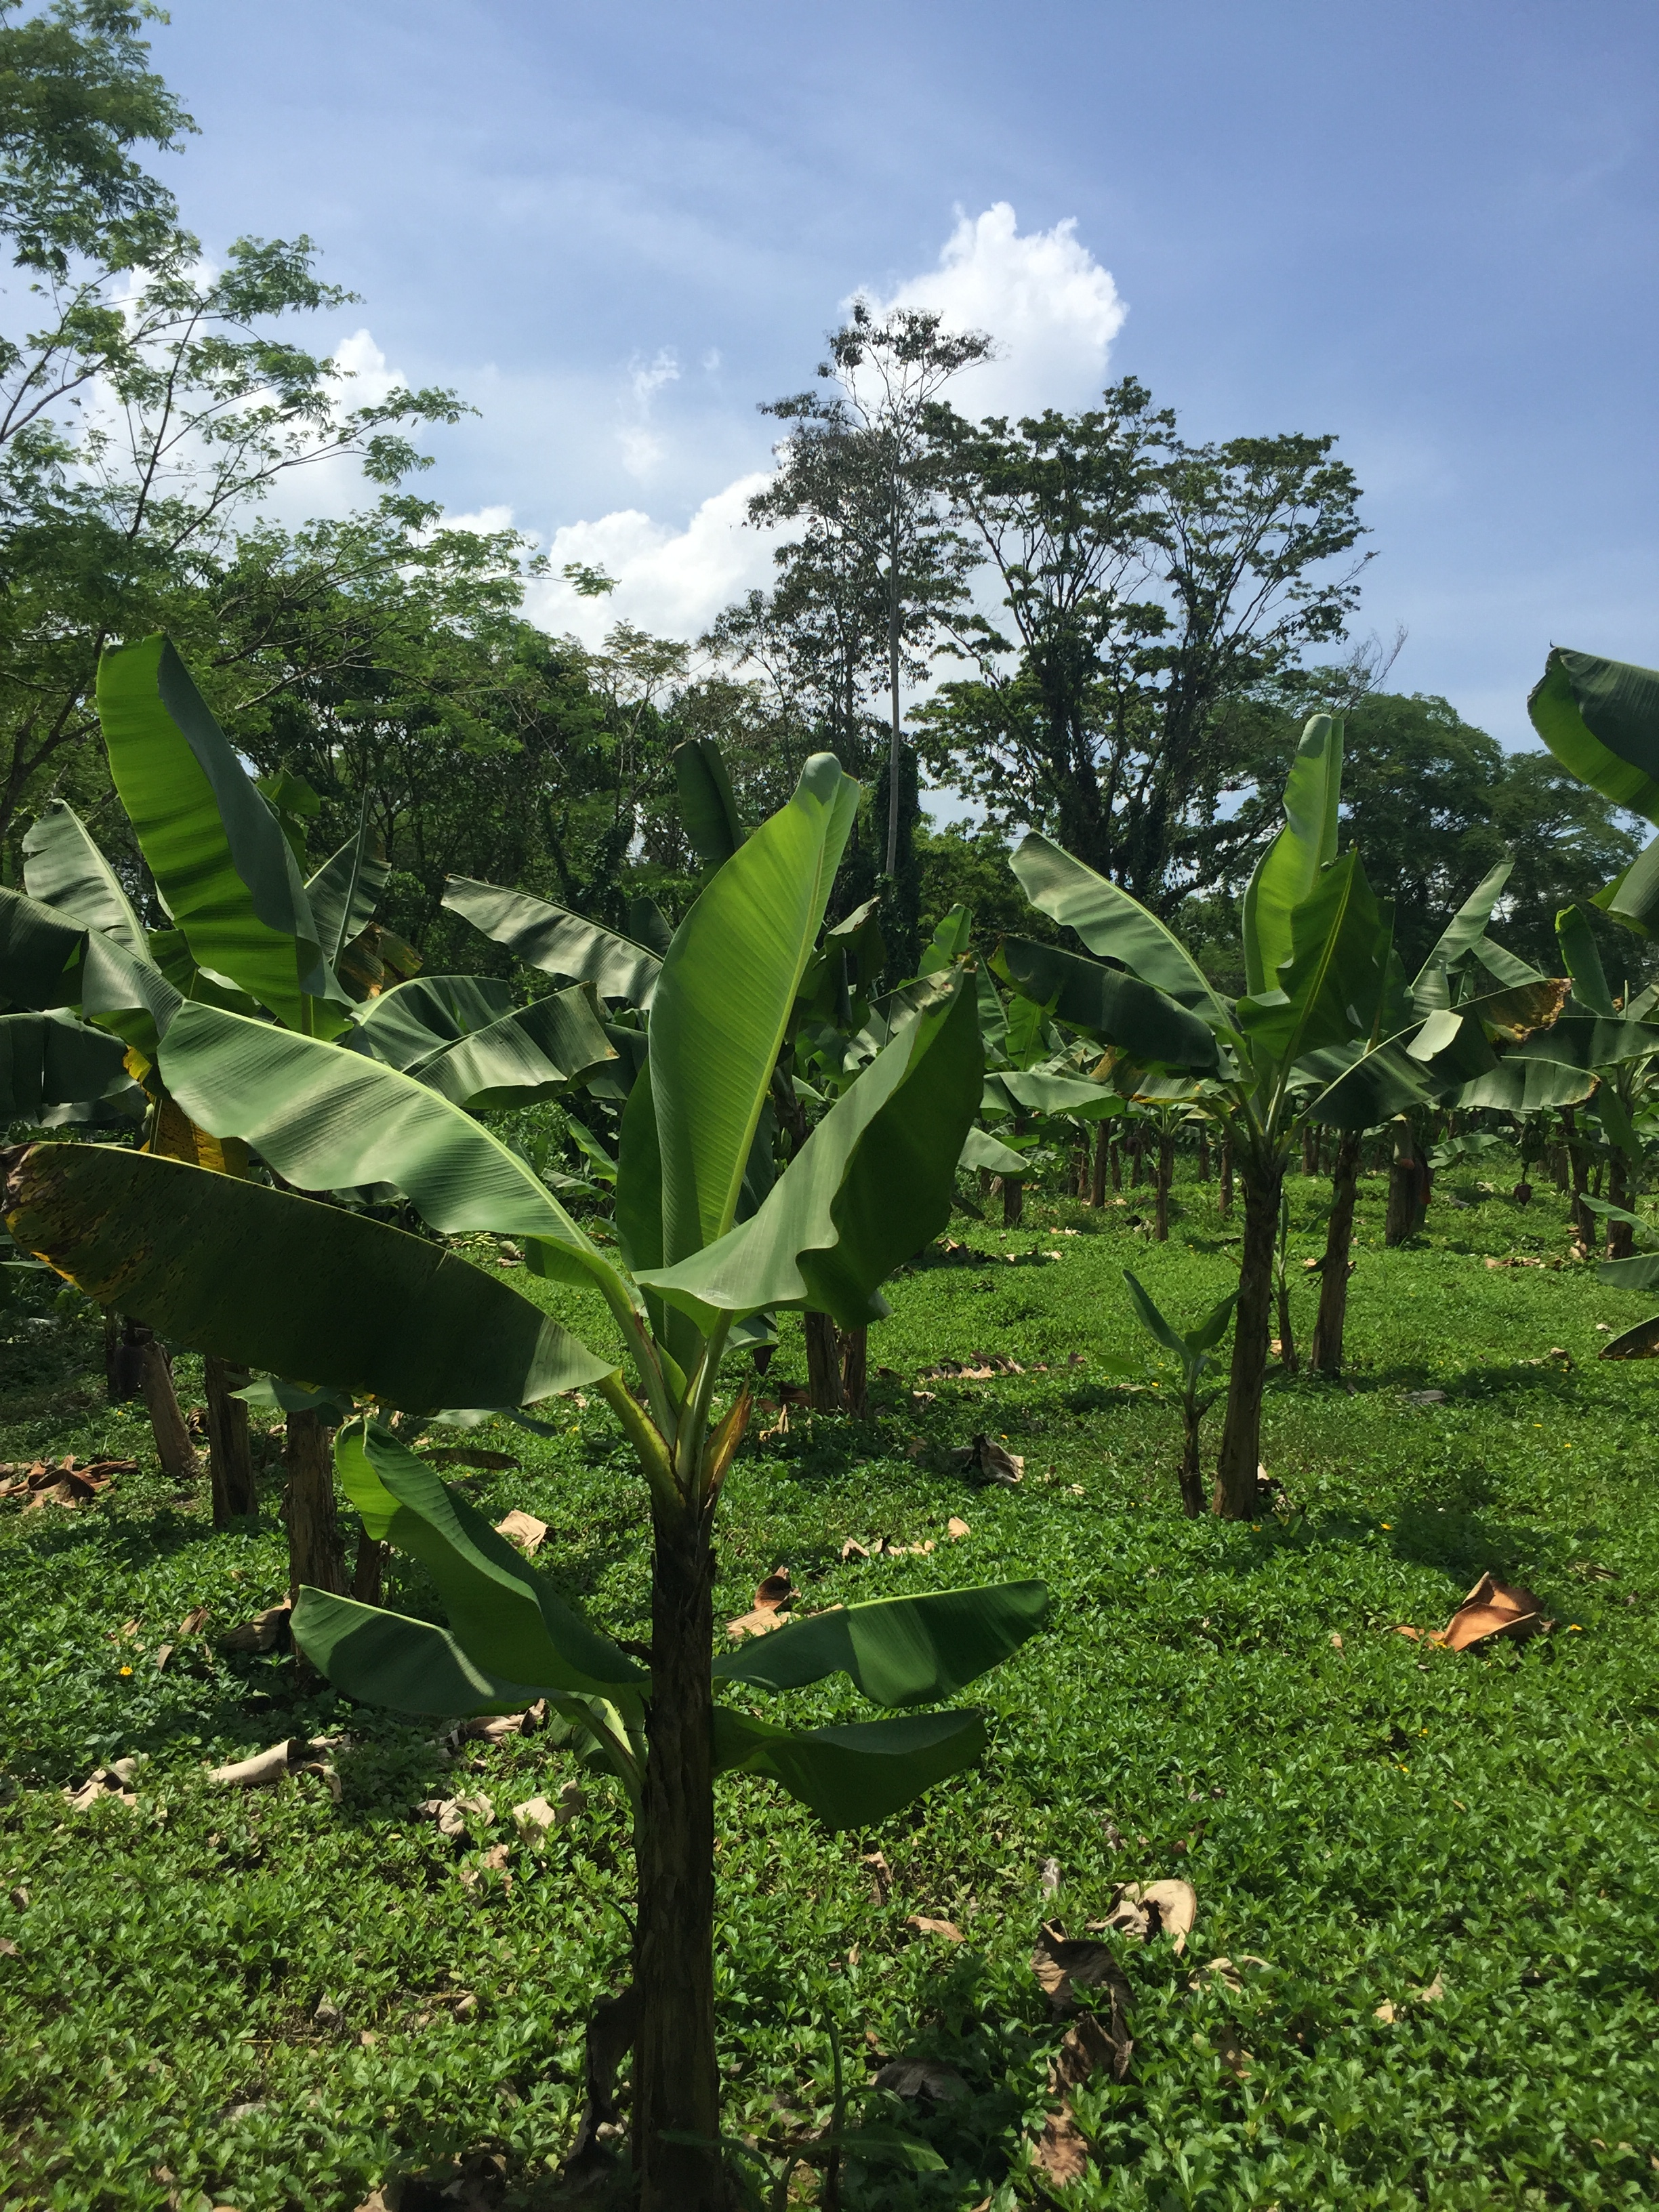candleleafs: (1243, 826, 1290, 1001), (331, 786, 371, 972)
